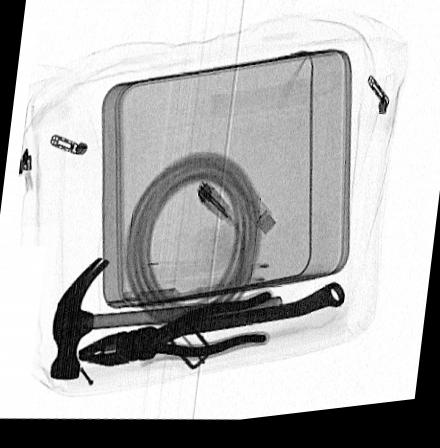Hammer: (47, 252, 283, 381)
Pliers: (77, 288, 274, 373)
Wrench: (132, 288, 346, 362)
